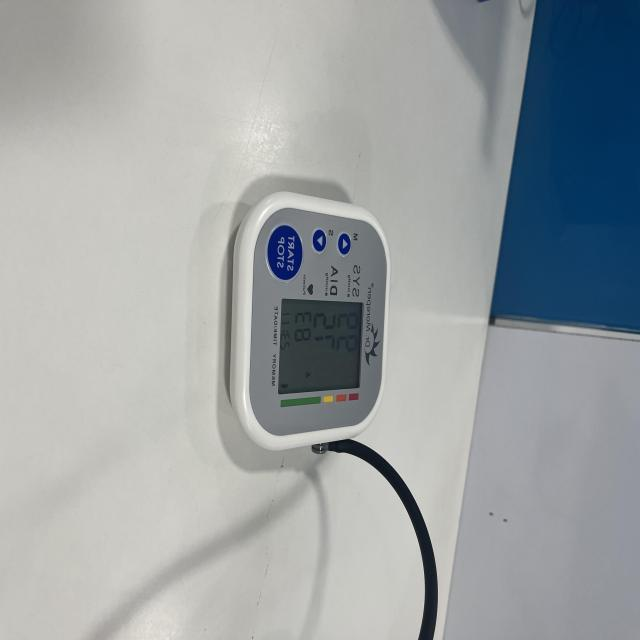bp: (204, 182, 407, 466)
